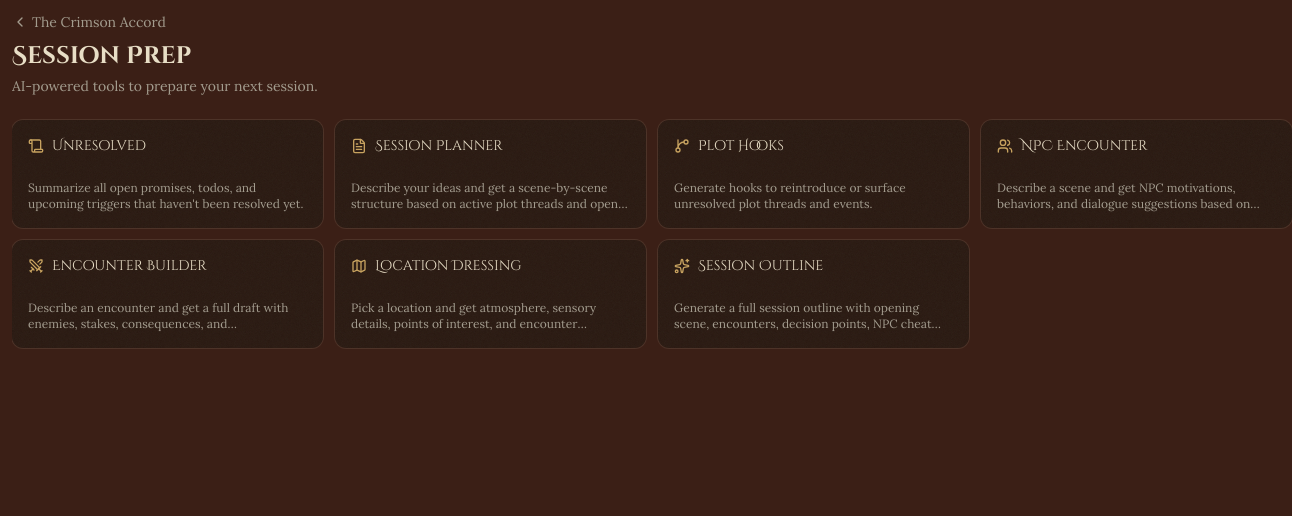
Test case: SessionPrep › shows generate button for unresolved tool (no input needed)
Click the text "Unresolved": (168, 174) 12,120 -> 323,228
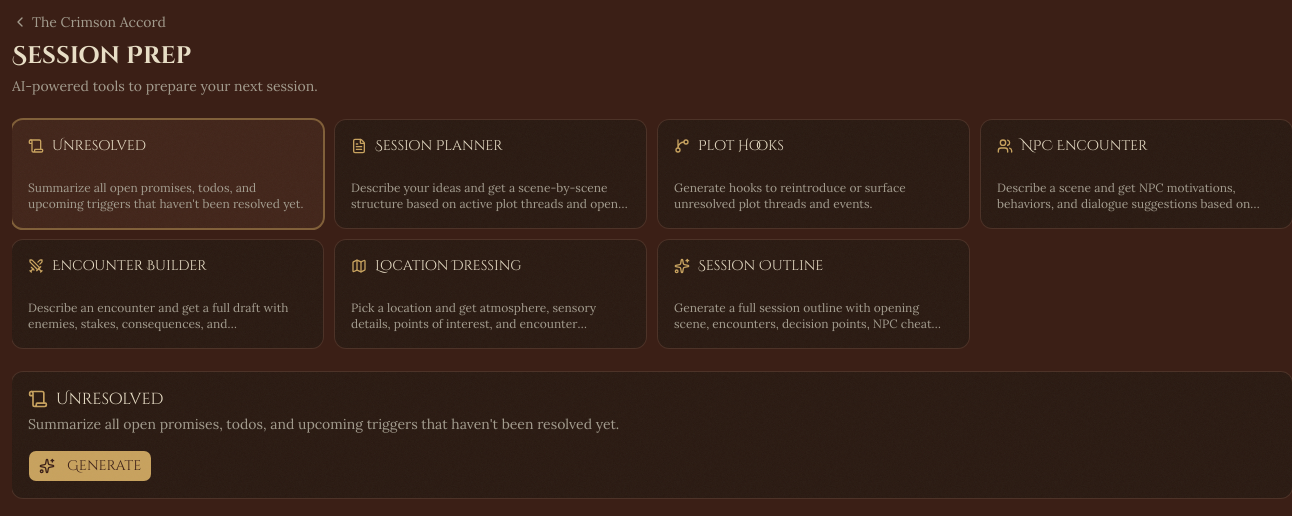
Result: the button "Generate" is shown at 28,450 -> 152,482
